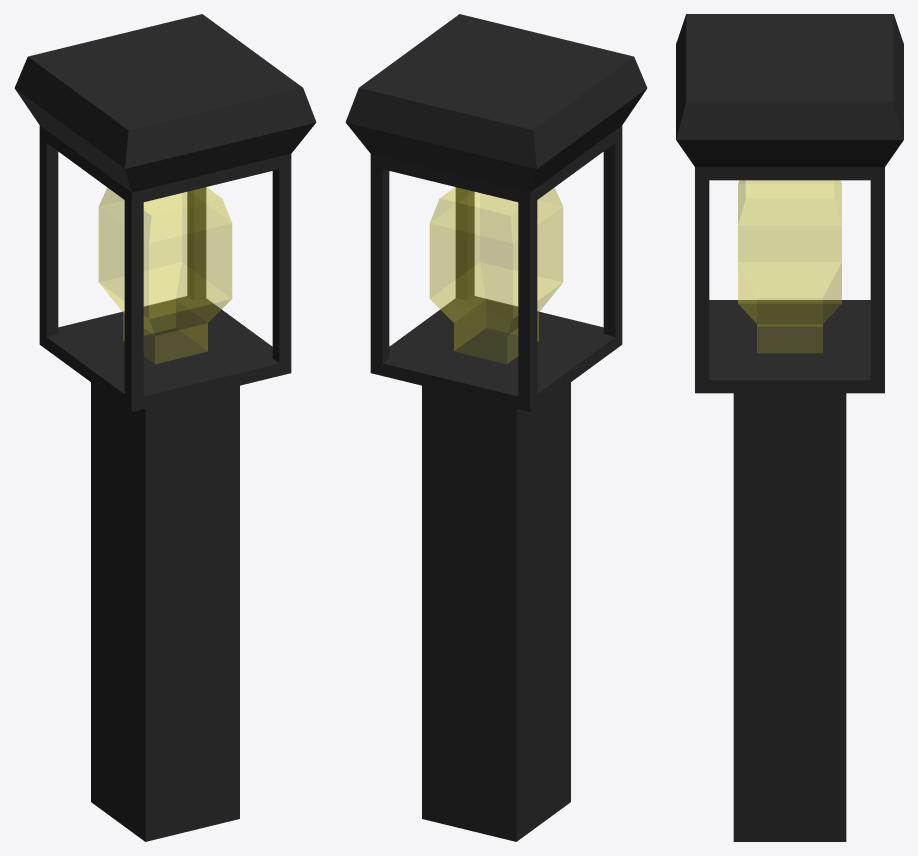
The model's file is GroundTorch.fbx.
3 views of the same model, side by side, from view 1: azimuth 30°, elevation 25°; view 2: azimuth 150°, elevation 25°; view 3: azimuth 270°, elevation 25° (orthographic). The views are drawn at different scales.
Visible parts, largest first — view 1: Box001; view 2: Box001; view 3: Box001.
Part boxes in pixels (x1,y1,x2,y2): Box001: [14, 14, 316, 841]; Box001: [345, 14, 647, 841]; Box001: [676, 14, 903, 841].
Bounding box in the file's own units: 40.46 × 149 × 40.46.
